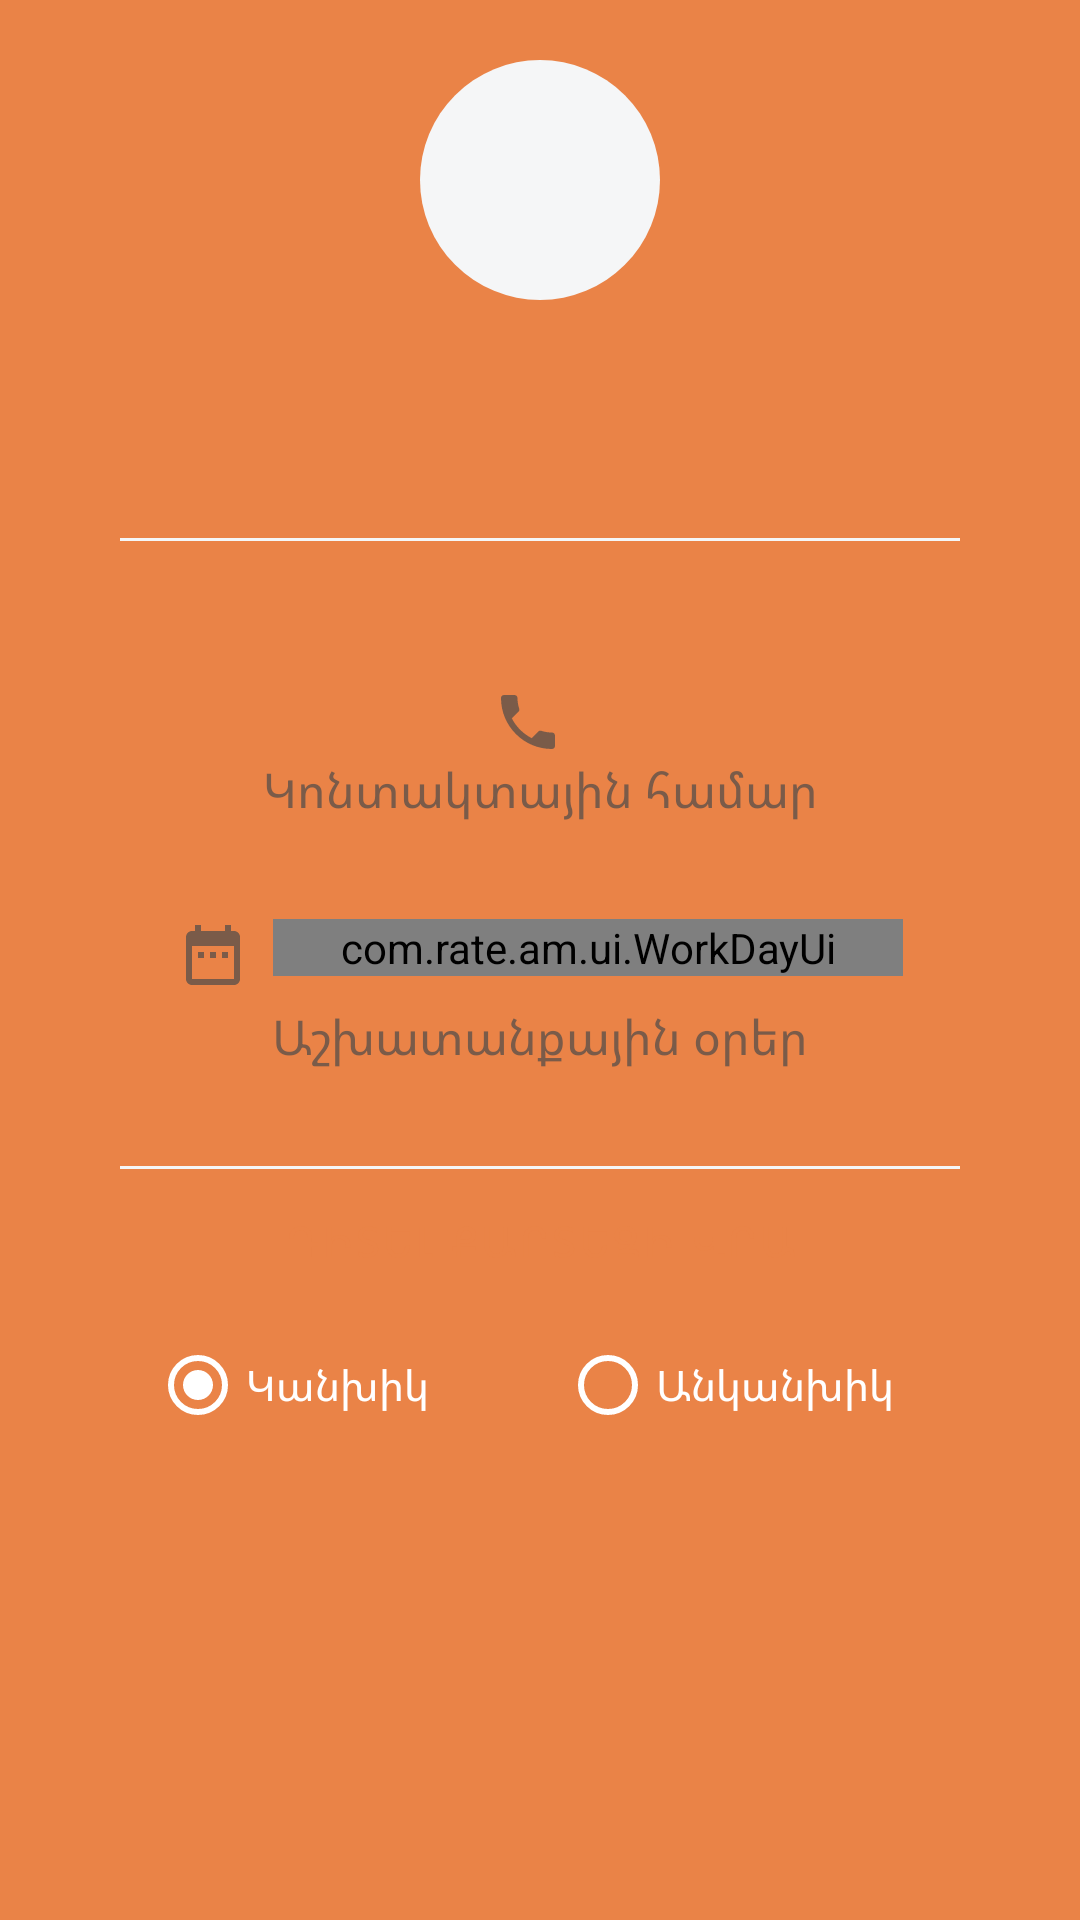

Named icons in this screenshot (1080px x 1920px) and their centers, point (x, y):
calendar: point (213, 955)
